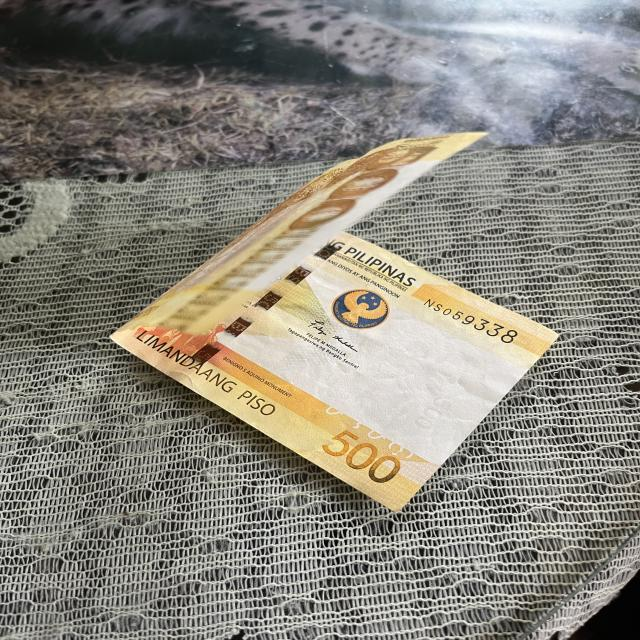security_thread: (175, 236, 351, 384)
see_through_mark: (317, 400, 431, 467)
serial_number: (407, 291, 530, 349)
value_watermark: (416, 393, 450, 432)
